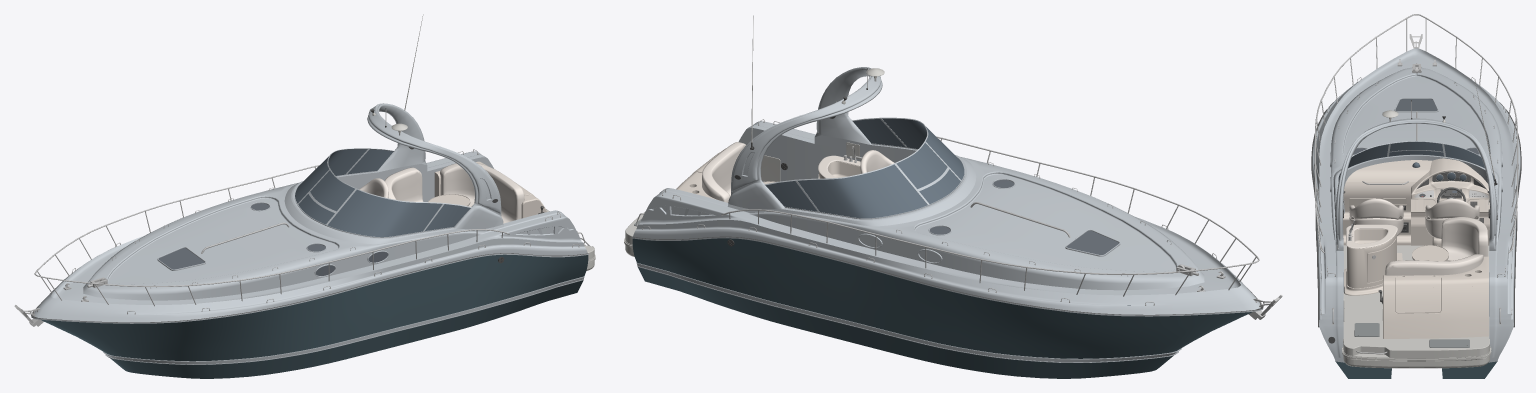
File: barco_glb.glb
3 views of the same model, side by side, from view 1: azimuth 30°, elevation 25°; view 2: azimuth 150°, elevation 25°; view 3: azimuth 270°, elevation 25° (orthographic). The views are drawn at different scales.
Visible parts, largest first — view 1: Mesh_0, Mesh_1, 355-14, 355-28, 355-02, 355-15, 355-30, 355-27, 355-21; view 2: Mesh_0, Mesh_1, 355-14, 355-02, 355-28, 355-15, 355-21, 355-27; view 3: Mesh_0, 355-27, 355-26, 355-65, 355-53, 355-51, 355-02, 355-30, 355-14, 355-28, 355-32, Mesh_1 (+9 smaller).
Boxes of the visible parts, left/top/right/bottom form: Mesh_0: left=31, top=103, right=588, bottom=364; Mesh_1: left=41, top=254, right=588, bottom=378; 355-14: left=295, top=149, right=470, bottom=237; 355-28: left=440, top=163, right=524, bottom=223; 355-02: left=34, top=165, right=509, bottom=306; 355-15: left=158, top=203, right=387, bottom=275; 355-30: left=385, top=167, right=423, bottom=201; 355-27: left=434, top=161, right=547, bottom=218; 355-21: left=31, top=253, right=587, bottom=322; Mesh_0: left=632, top=67, right=1263, bottom=362; Mesh_1: left=632, top=238, right=1251, bottom=378; 355-14: left=765, top=118, right=964, bottom=218; 355-02: left=721, top=136, right=1259, bottom=296; 355-28: left=702, top=142, right=745, bottom=202; 355-15: left=929, top=180, right=1119, bottom=254; 355-21: left=632, top=236, right=1263, bottom=315; 355-27: left=676, top=148, right=727, bottom=202; Mesh_0: left=1311, top=48, right=1521, bottom=362; 355-27: left=1383, top=256, right=1488, bottom=338; 355-26: left=1337, top=245, right=1491, bottom=368; 355-65: left=1343, top=160, right=1431, bottom=245; 355-53: left=1411, top=158, right=1489, bottom=245; 355-51: left=1344, top=229, right=1396, bottom=295; 355-02: left=1314, top=14, right=1518, bottom=253; 355-30: left=1441, top=217, right=1487, bottom=261; 355-14: left=1338, top=141, right=1494, bottom=181; 355-28: left=1385, top=254, right=1483, bottom=275; 355-32: left=1349, top=198, right=1403, bottom=235; Mesh_1: left=1335, top=361, right=1497, bottom=378.
Size of the model in its own units: 0.6 by 0.2657 by 0.1989.
